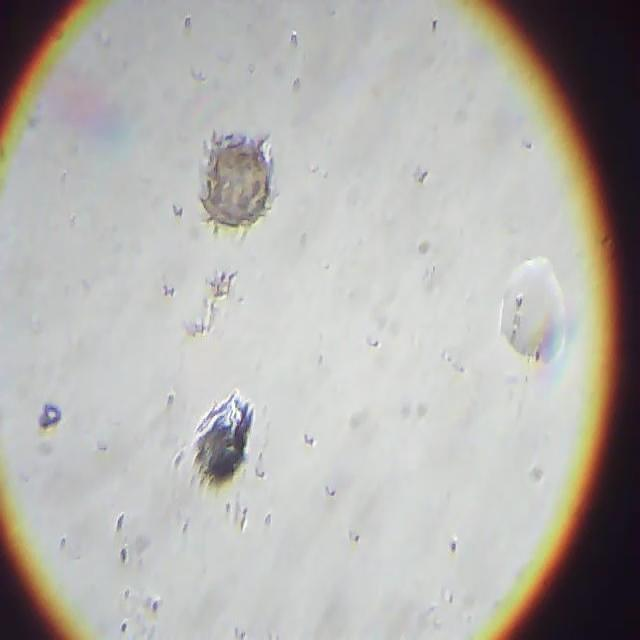alexandrium: (195, 131, 287, 232)
alexandrium minutum: (191, 385, 270, 488)
